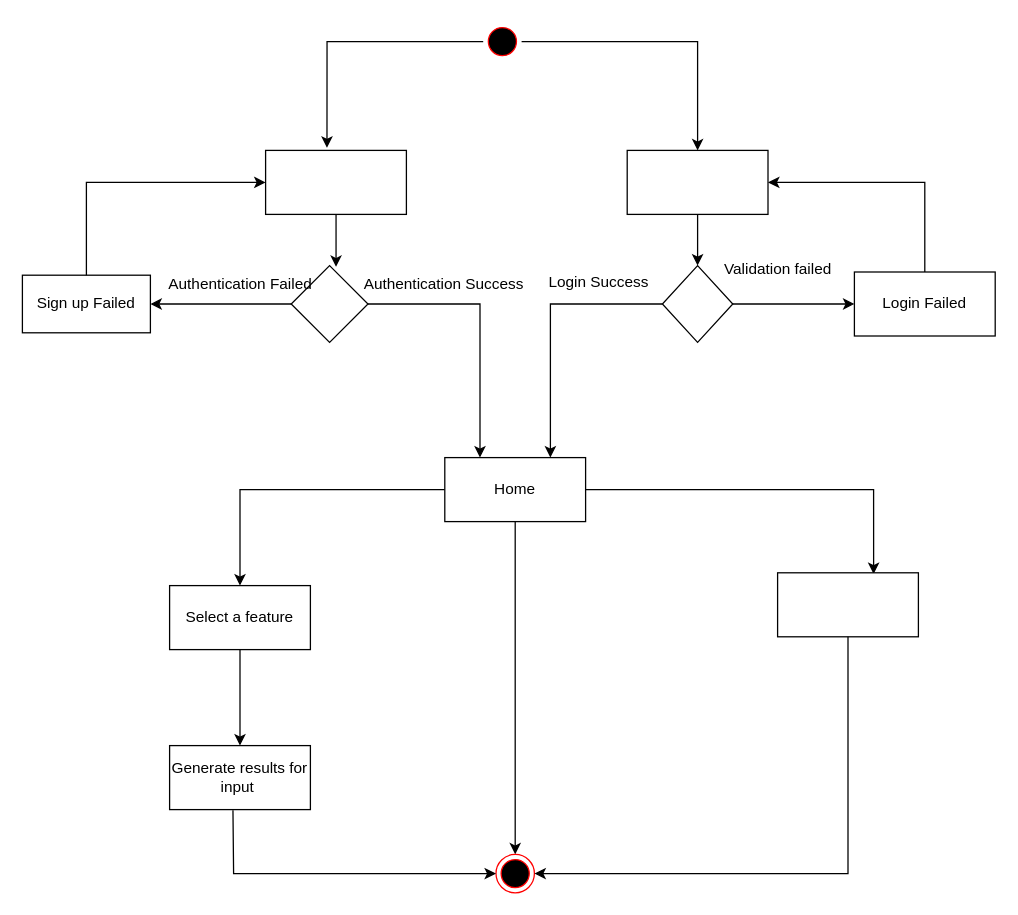
The diagram is 1018 pixels wide and 915 high, and some of its shapes have lost their labels. Each missing label, with the box of its shape:
History: (776, 572, 918, 637)
Login: (626, 149, 768, 214)
Sign up: (264, 149, 406, 214)
